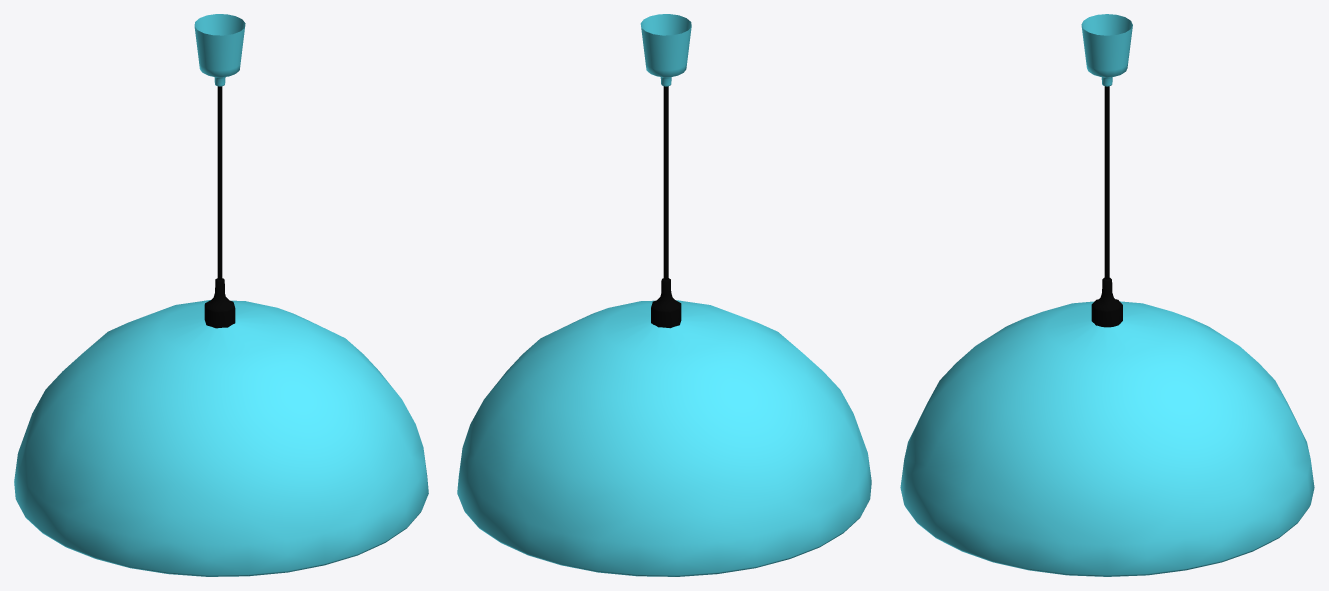
Rendered from SM_Pendantlight_001_D.FBX.
3 views of the same model, side by side, from view 1: azimuth 30°, elevation 25°; view 2: azimuth 150°, elevation 25°; view 3: azimuth 270°, elevation 25° (orthographic).
Parts seen in each view (by area): view 1: SM_Pendantlight_001_D; view 2: SM_Pendantlight_001_D; view 3: SM_Pendantlight_001_D.
Part boxes in pixels (x1,y1,x2,y2): SM_Pendantlight_001_D: (14, 14, 428, 576); SM_Pendantlight_001_D: (457, 14, 871, 576); SM_Pendantlight_001_D: (900, 14, 1314, 576).
Size of the model in its own units: 60.44 by 60.44 by 74.9.
